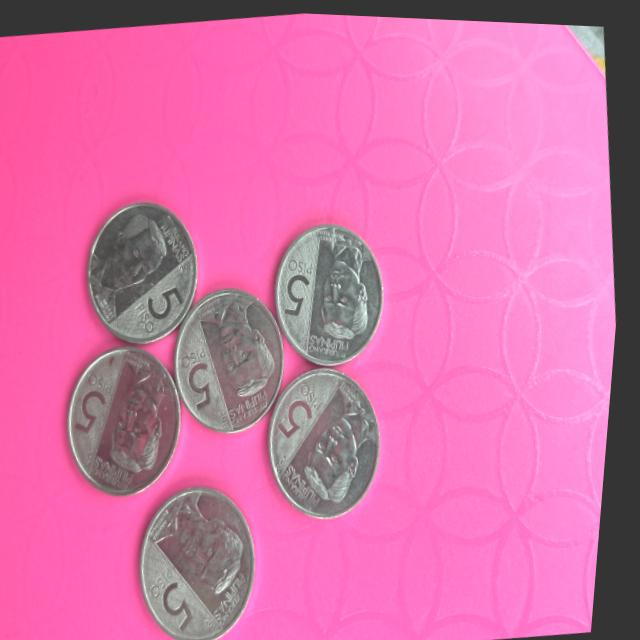5_New_Front: (271, 241, 329, 333), (121, 270, 198, 339), (276, 373, 339, 452), (169, 345, 228, 416), (70, 360, 129, 431), (150, 566, 213, 631)
